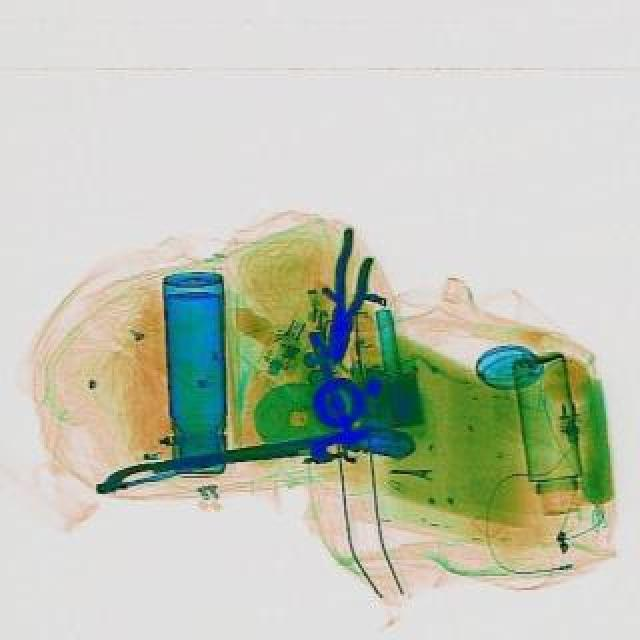wrench: (314, 226, 378, 364)
